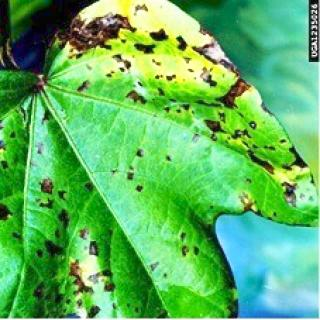blight: (46, 4, 320, 220), (19, 234, 135, 306)
